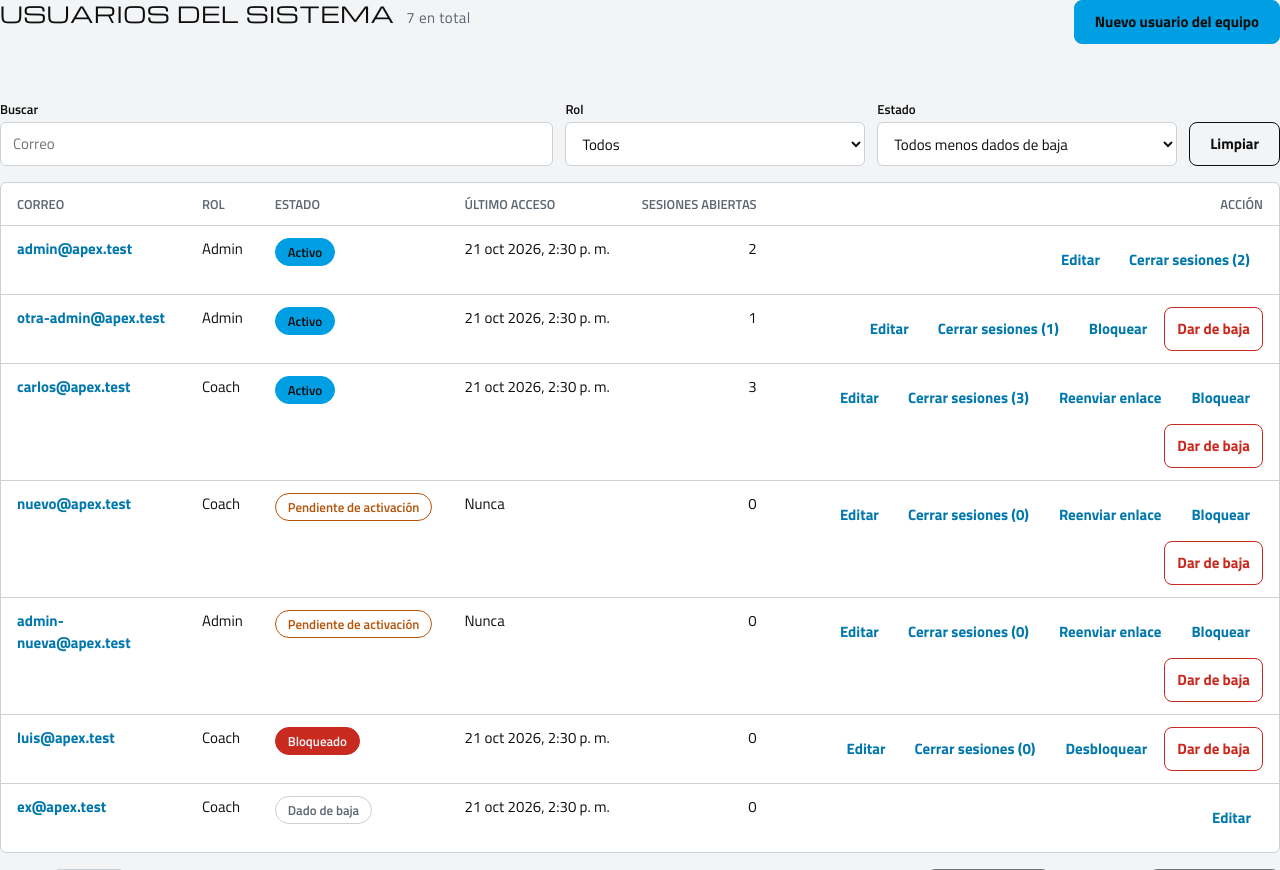
UsersPage · cerrar sesiones (US-051) › sin conexión lo dice y no cierra el modal
The width and height of the screenshot is (1280, 870).
Click the button "Cerrar sesiones (3)".
click(968, 398)  # box [895, 376, 1042, 420]
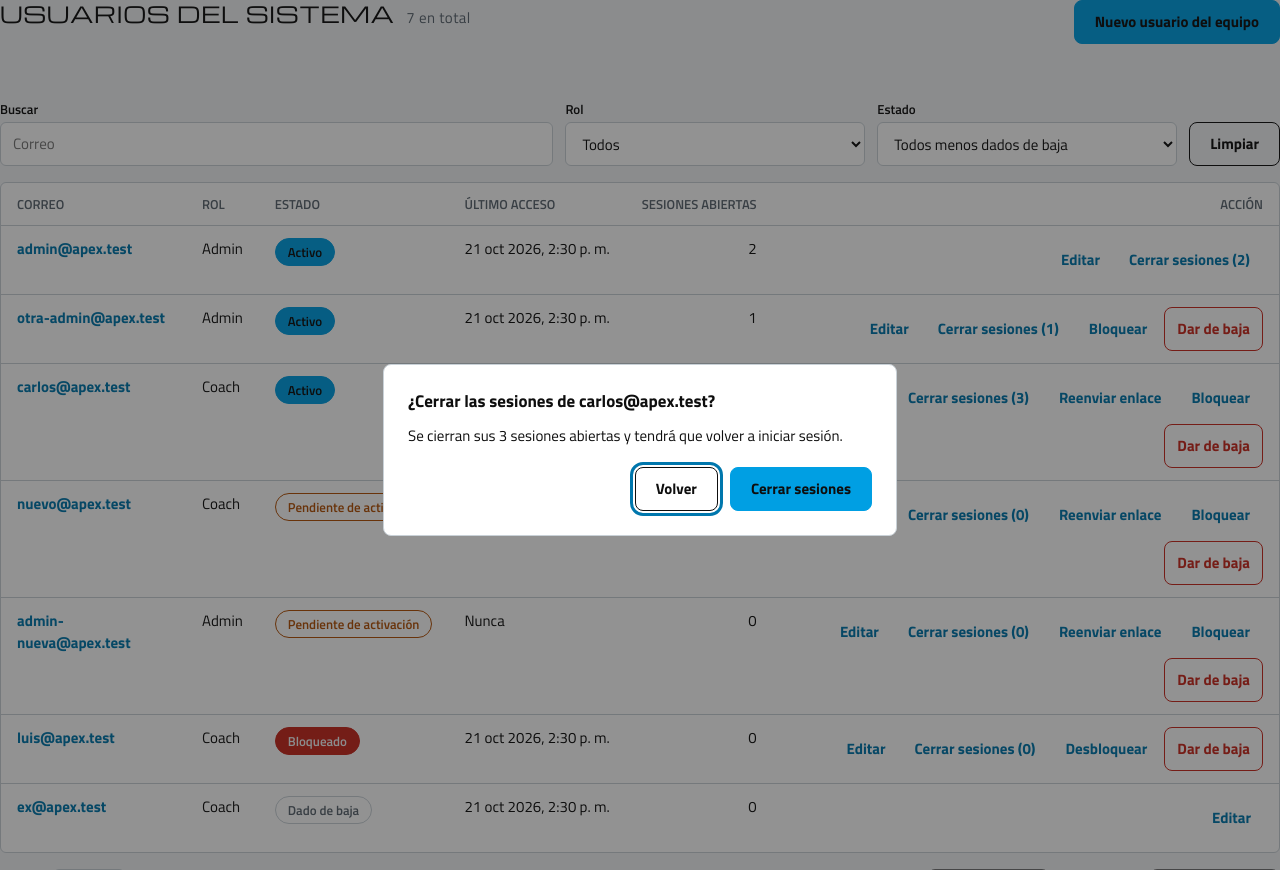
Click the button "Cerrar sesiones".
click(801, 489)  # box [730, 467, 872, 511]
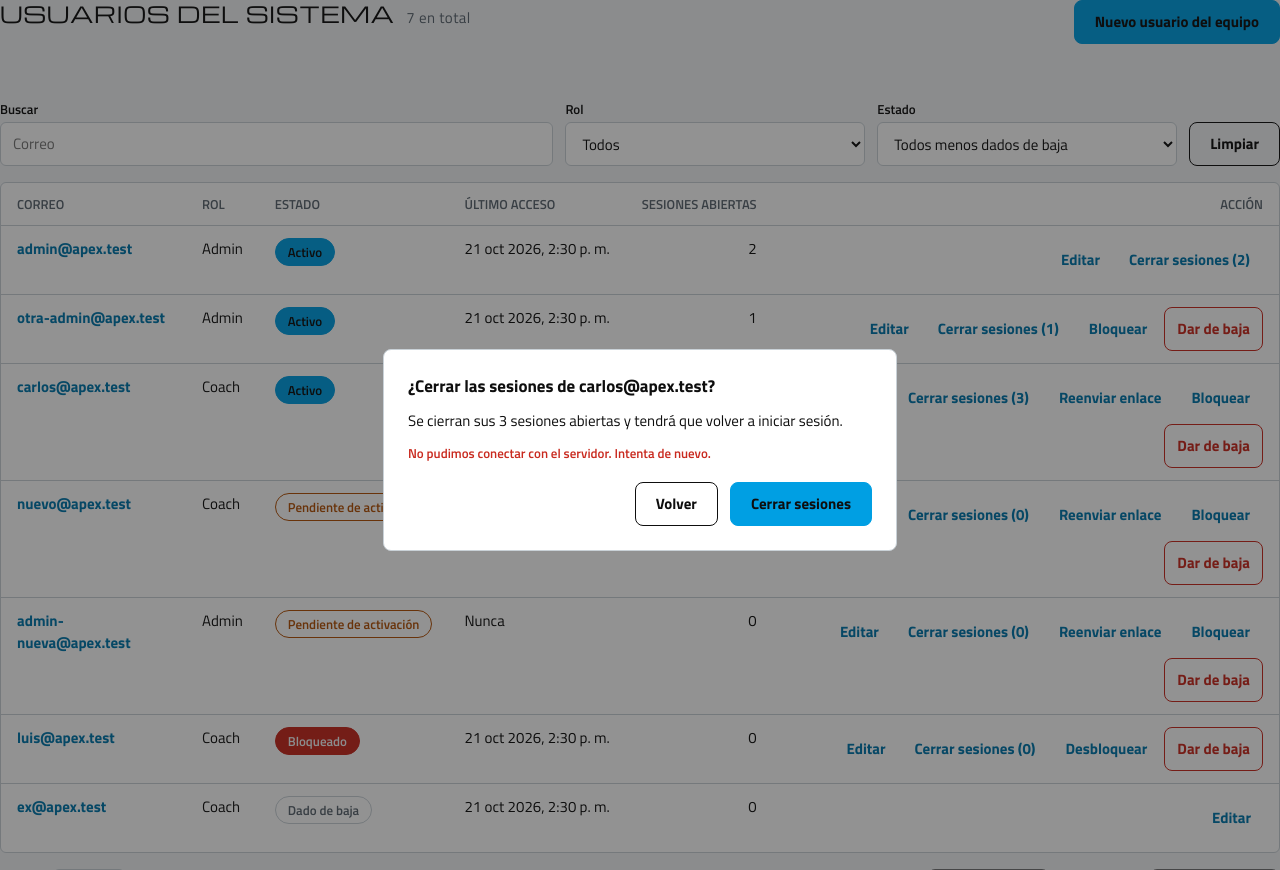
Expected: the message reads "No pudimos conectar con el servidor. Intenta de nuevo.", [408, 443, 711, 463]
